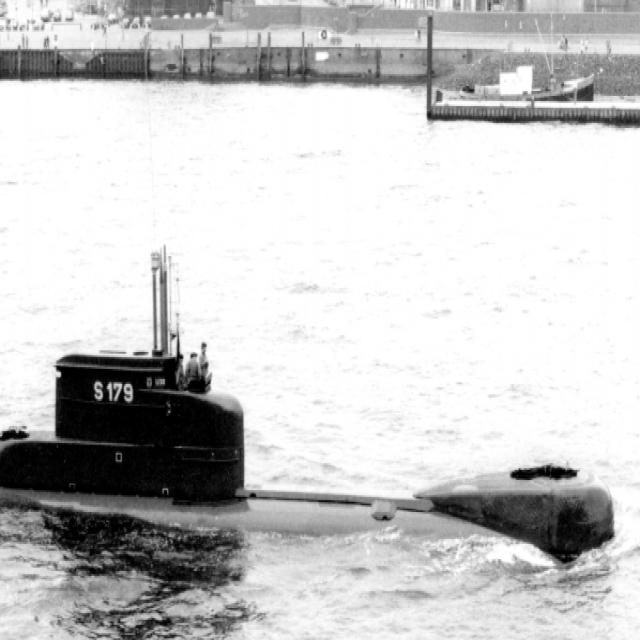submarine: (1, 233, 617, 558)
